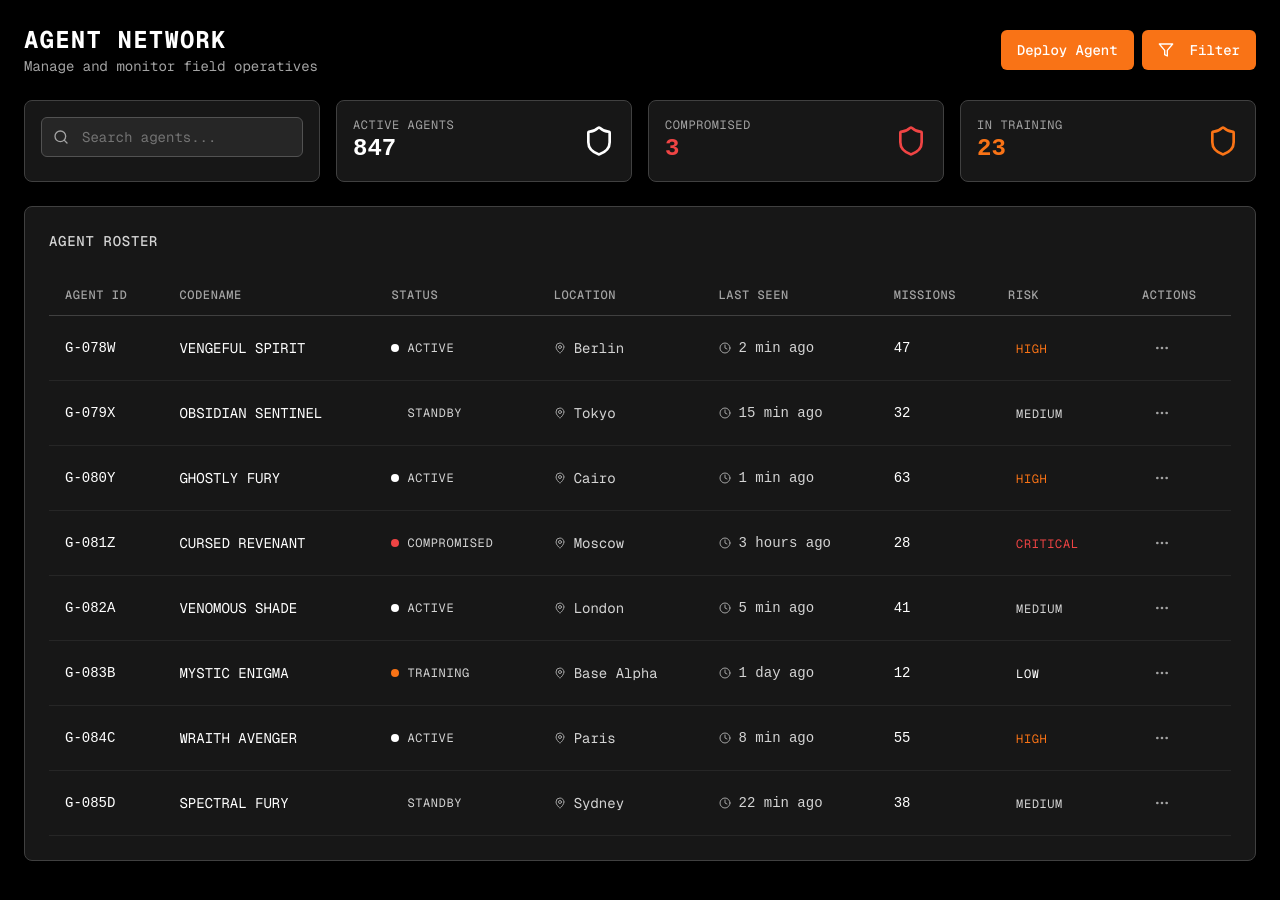
Test: AgentNetworkPage › closes the agent detail modal
Click the text "VENGEFUL SPIRIT" at [640, 348], box [49, 316, 1231, 380]
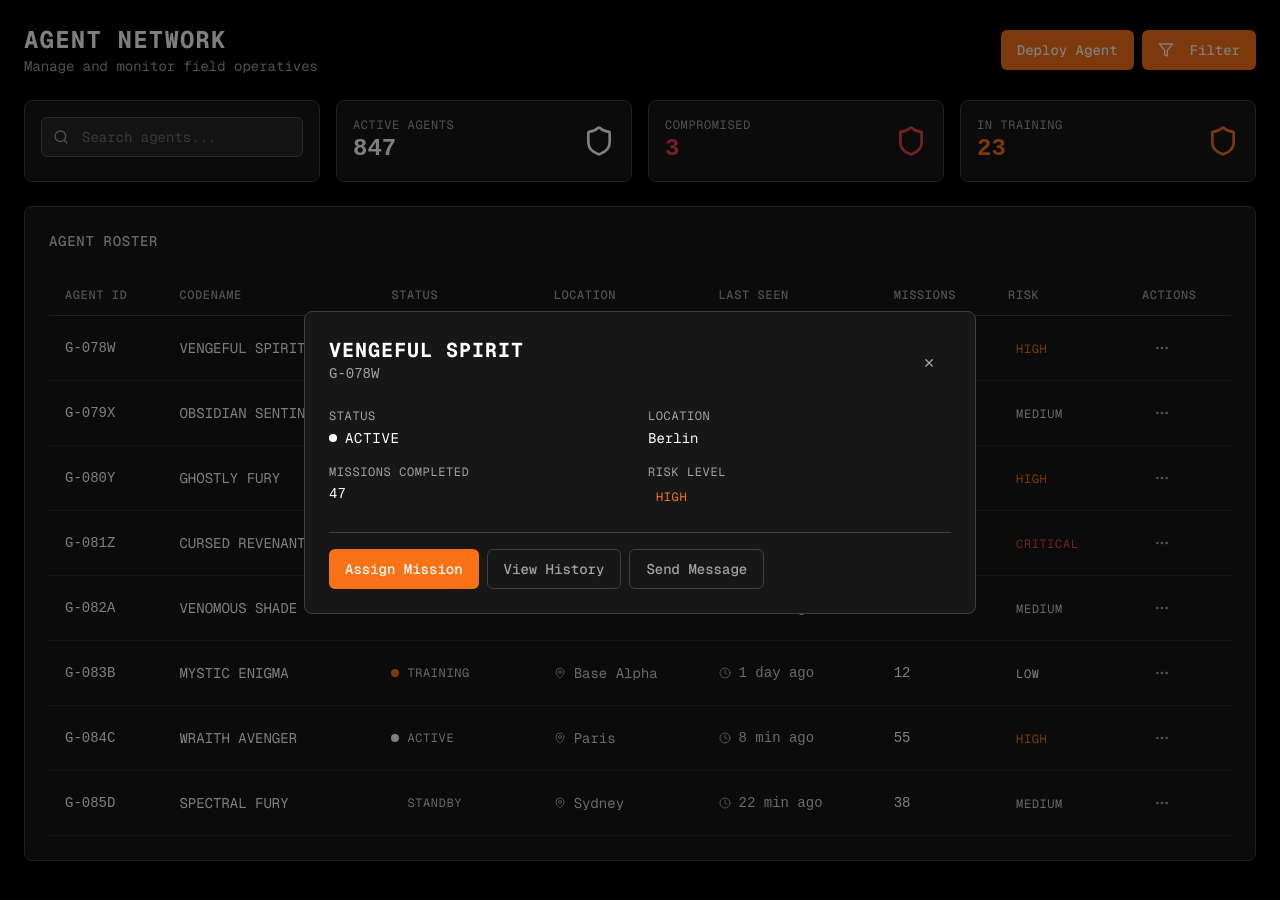
Now the button "Assign Mission" is shown, box [329, 548, 479, 588]
Click the button "✕" at [929, 362], box [907, 342, 951, 382]
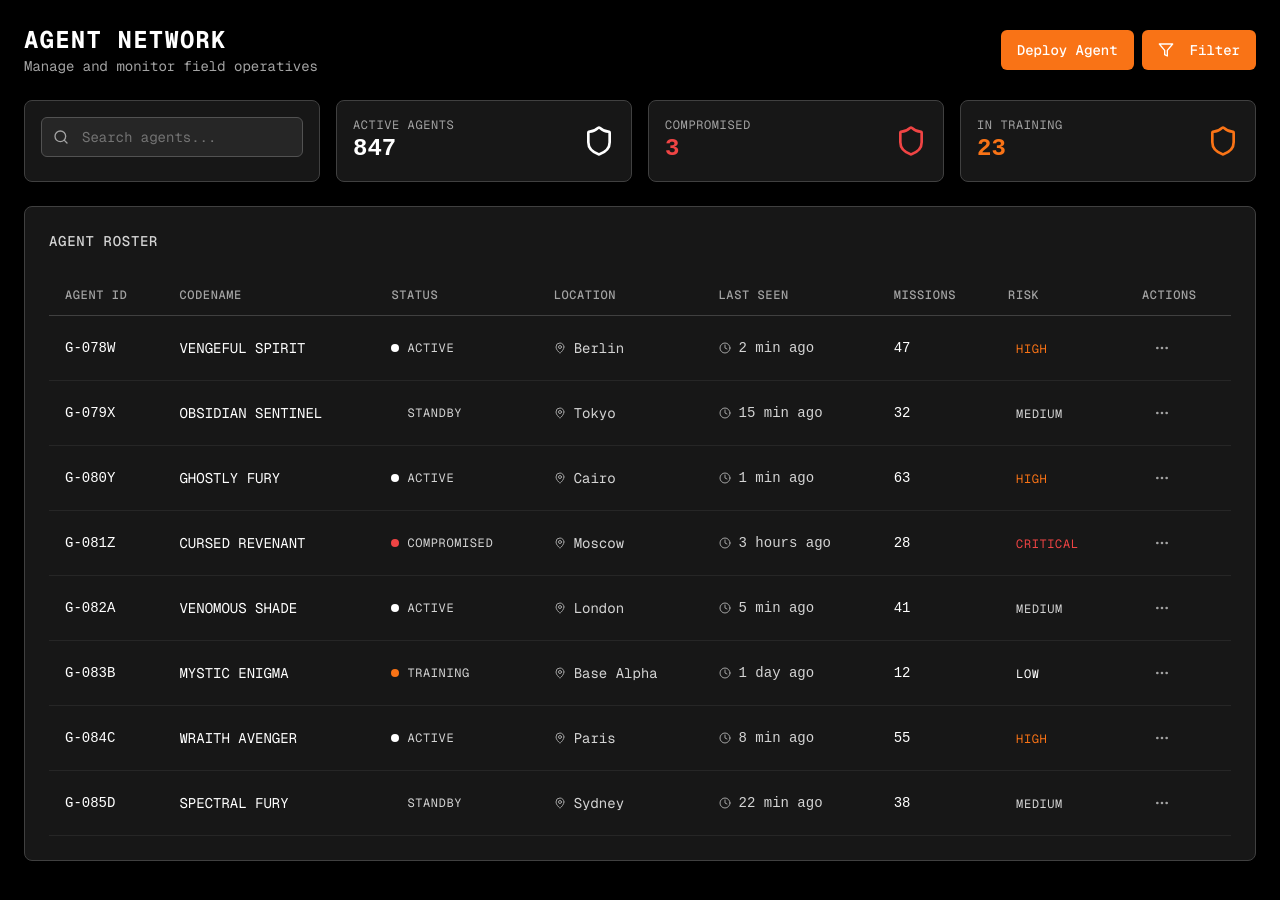
Now the button "Assign Mission" is gone
